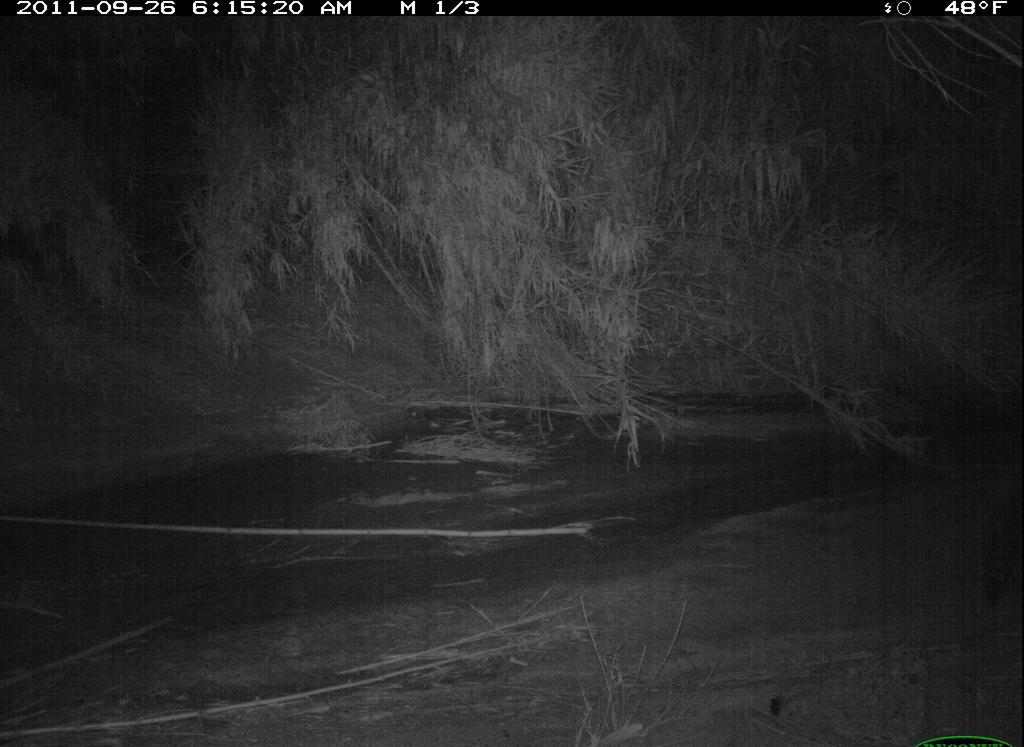raccoon: (975, 455, 1022, 628)
